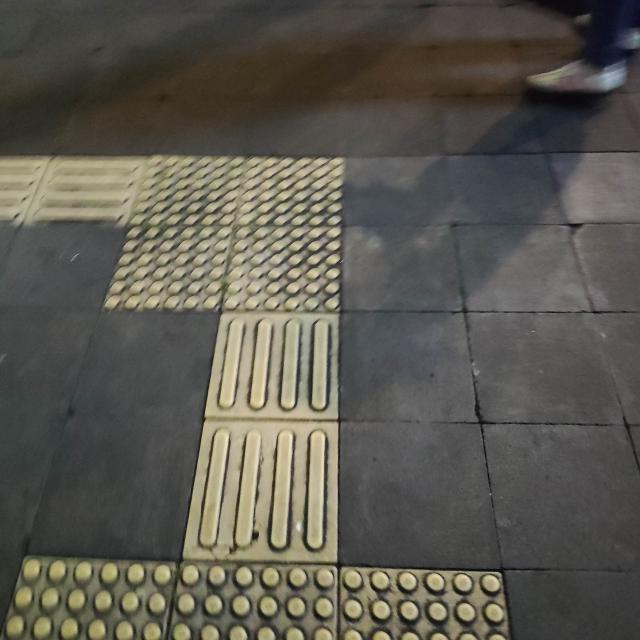kiri: (0, 98, 382, 384)
